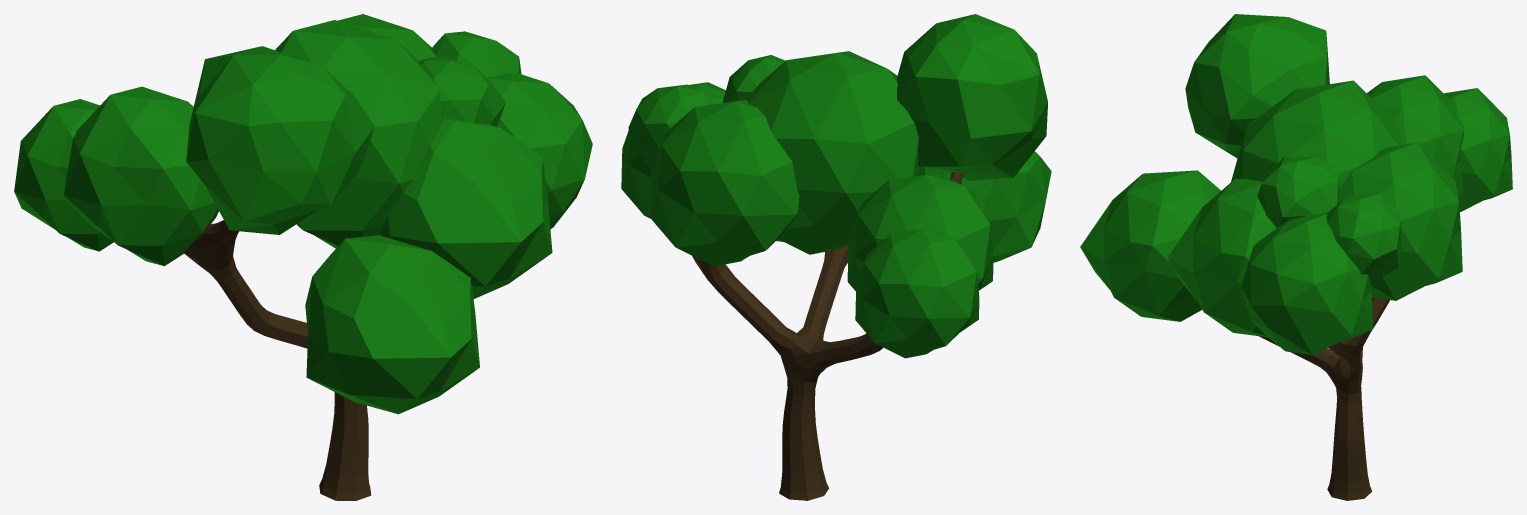
Rendered from tree2.fbx.
3 views of the same model, side by side, from view 1: azimuth 30°, elevation 25°; view 2: azimuth 150°, elevation 25°; view 3: azimuth 270°, elevation 25° (orthographic). The views are drawn at different scales.
Visible parts, largest first — view 1: Icosphere; view 2: Icosphere; view 3: Icosphere.
Part boxes in pixels (x1,y1,x2,y2): Icosphere: (14, 14, 592, 500); Icosphere: (621, 14, 1051, 500); Icosphere: (1080, 14, 1512, 500).
Size of the model in its own units: 1751 by 1819 by 1694.
